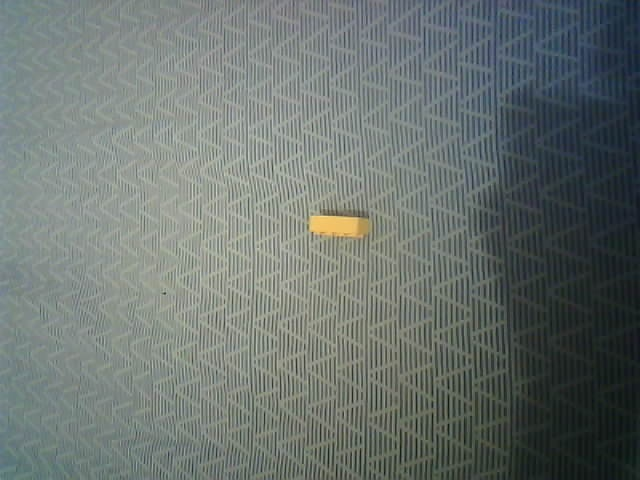lego: (307, 214, 370, 239)
